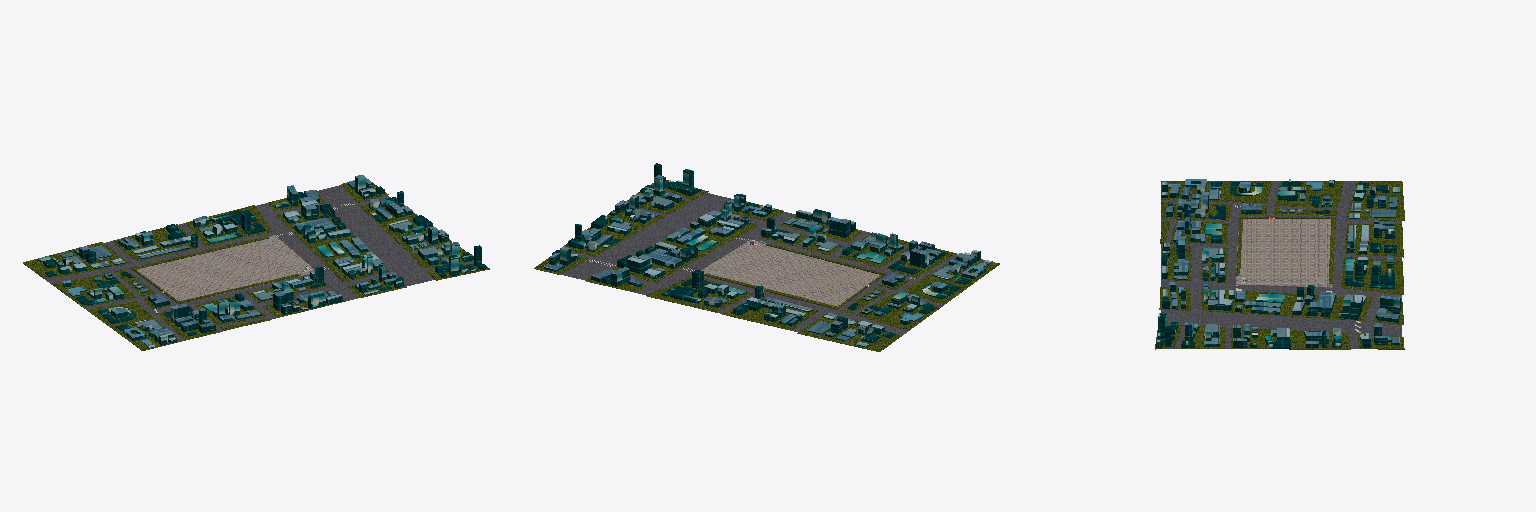
The picture shows the model from 3 angles: view 1: azimuth 30°, elevation 25°; view 2: azimuth 150°, elevation 25°; view 3: azimuth 270°, elevation 25°; orthographic projection.
Parts seen in each view (by area): view 1: layout1; view 2: layout1; view 3: layout1.
Boxes of the visible parts, x1=… form: layout1: x1=23, y1=175, x2=489, y2=350; layout1: x1=534, y1=163, x2=999, y2=351; layout1: x1=1155, y1=179, x2=1404, y2=349.
Bounding box in the file's own units: 4735 × 249 × 2969.
8 materials, 7 textured.